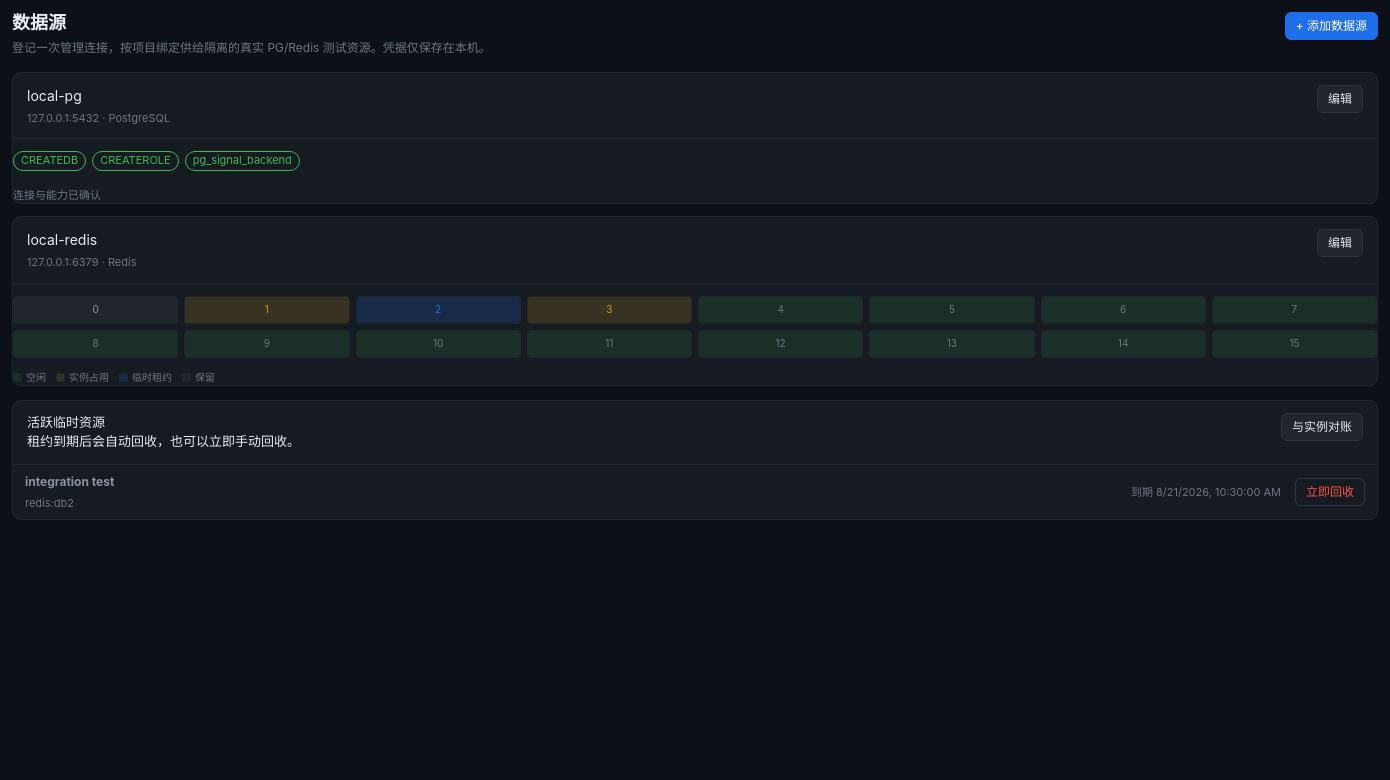
DataSourceTab › reconciles and renders reclaim result
What coordinates should you click on to do the following:
click the button with test id "datasource-reconcile"
I would click on:
 (1322, 427)
Its box is top-left (1281, 413), bottom-right (1363, 441).
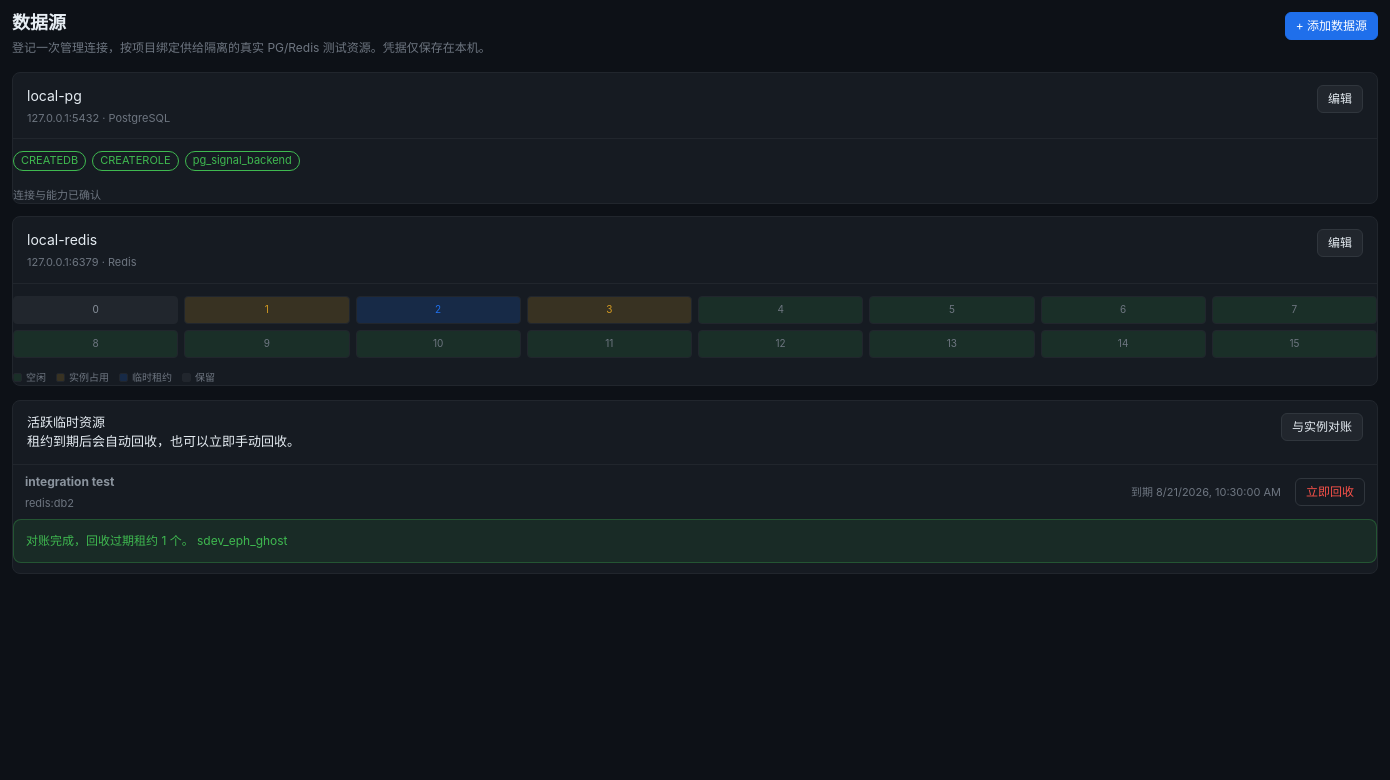
Check: the text "sdev_eph_ghost" is shown, box top-left (197, 533), bottom-right (288, 548)
